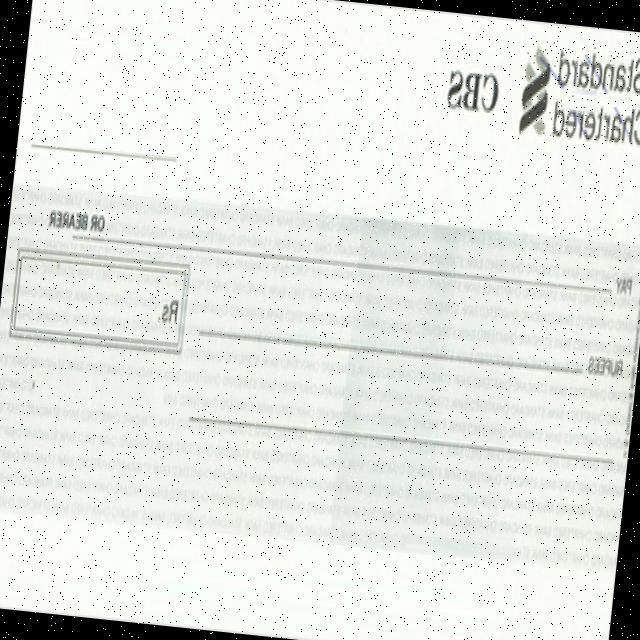Standard Chartered: (516, 36, 640, 151)
